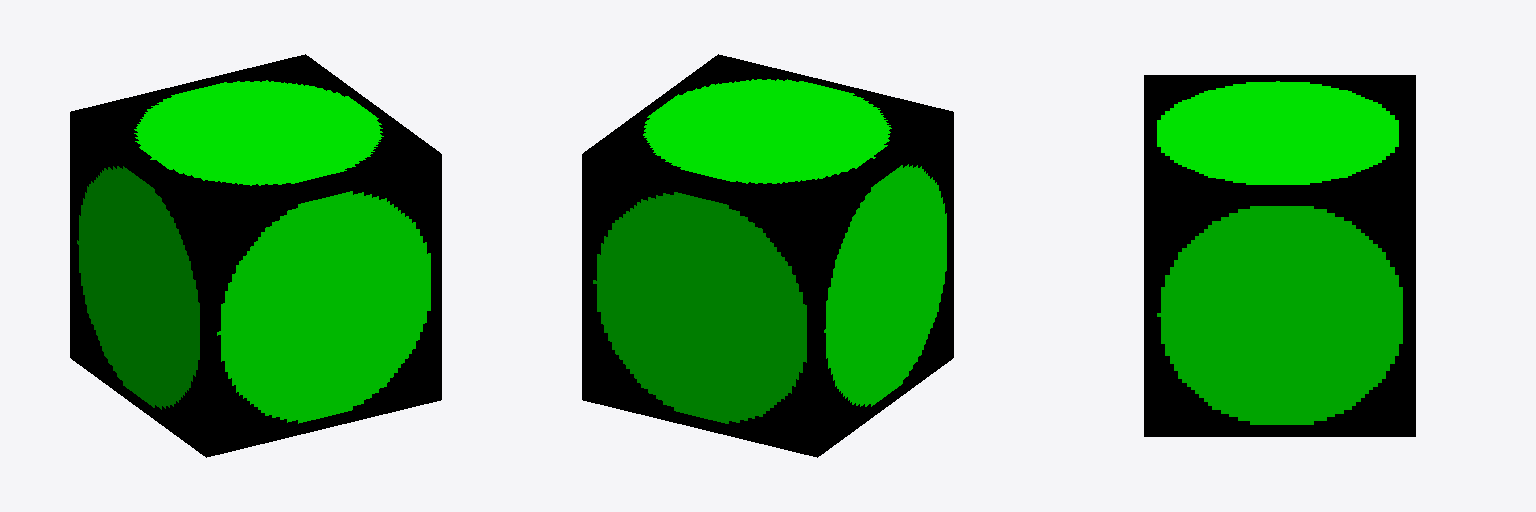
3 renders of one model, left to right at view 1: azimuth 30°, elevation 25°; view 2: azimuth 150°, elevation 25°; view 3: azimuth 270°, elevation 25°, orthographic.
Parts seen in each view (by area): view 1: lettuce-raw; view 2: lettuce-raw; view 3: lettuce-raw.
Part boxes in pixels (x1,y1,x2,y2): lettuce-raw: (70, 54, 441, 457); lettuce-raw: (582, 54, 953, 457); lettuce-raw: (1144, 75, 1415, 436).
Size of the model in its own units: 1 by 1 by 1.
1 materials, 1 textured.